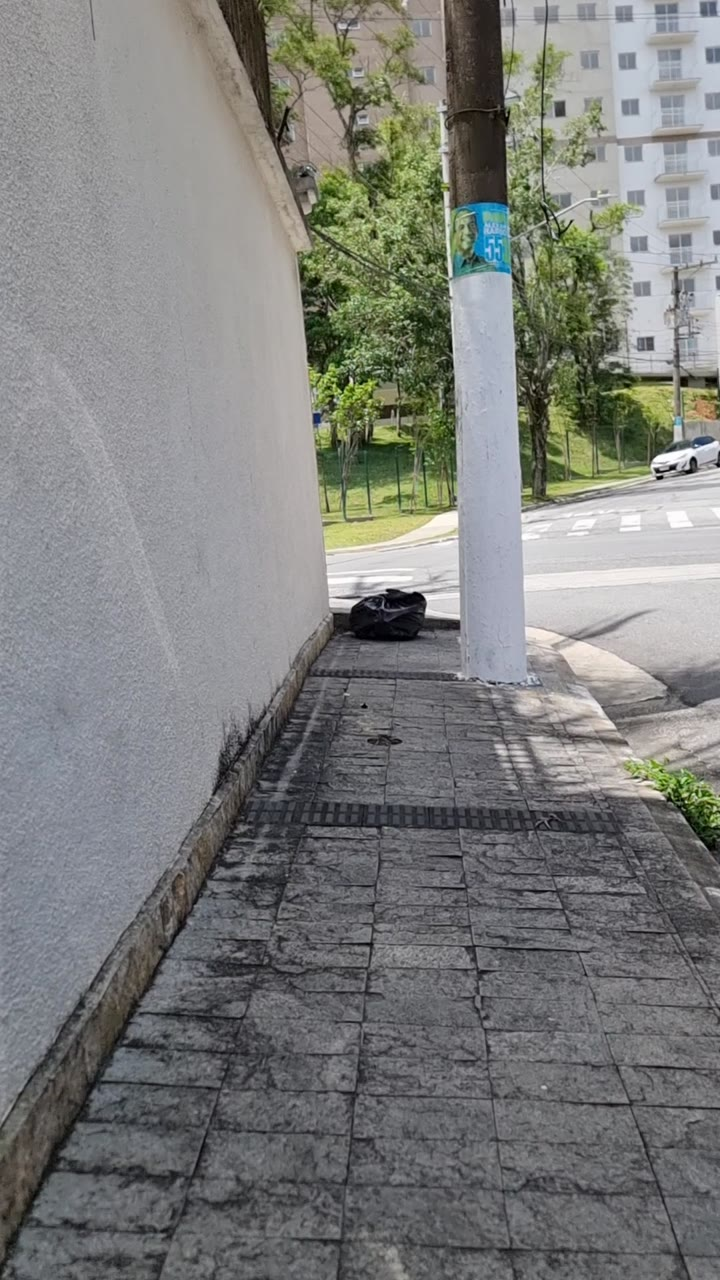obstaculo: (446, 0, 554, 678)
